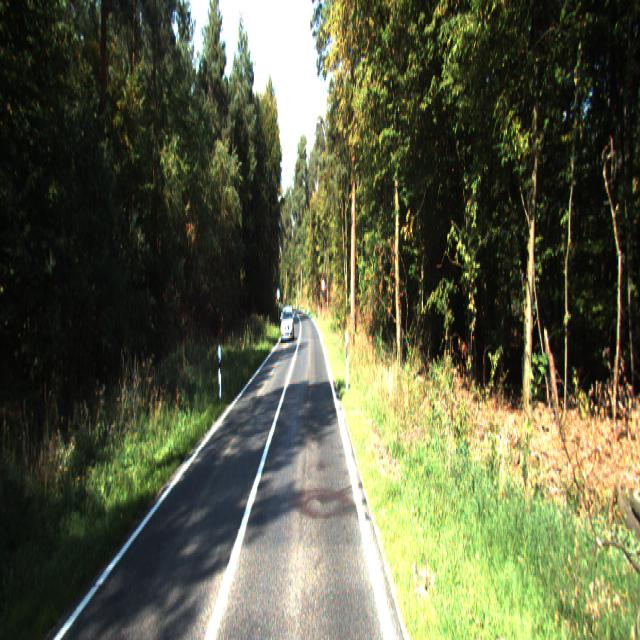Car: (280, 306, 294, 343)
